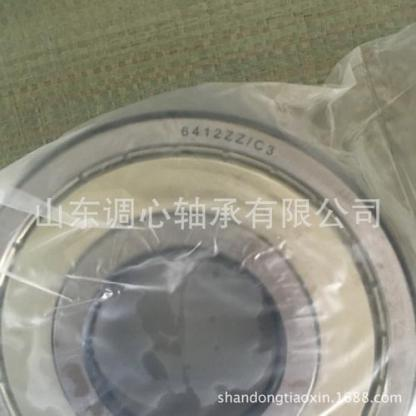FOD: (0, 111, 415, 415)
